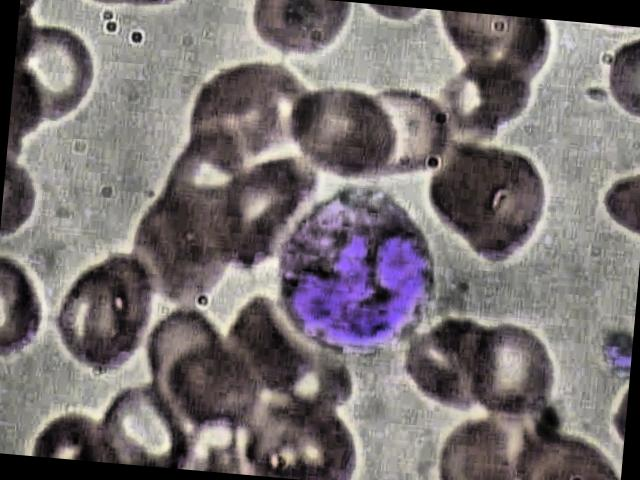Platelets: (593, 328, 633, 382)
RBC: (52, 248, 159, 376), (452, 144, 558, 273), (282, 83, 402, 185), (459, 317, 568, 422), (390, 314, 500, 418), (10, 19, 105, 130)
WBC: (269, 176, 442, 361)
